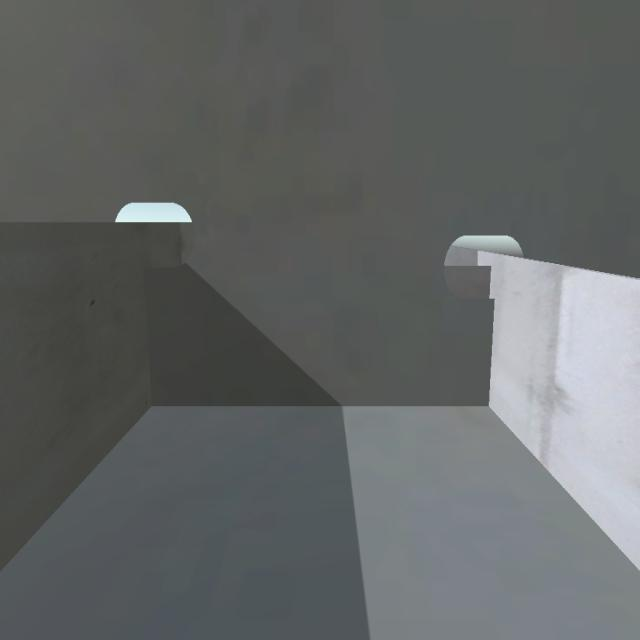fillet_yong_jeop_jang: (142, 394, 492, 413)
longi_yong_jeop_jang: (137, 264, 158, 408), (487, 264, 500, 414)
plate_behind: (440, 264, 500, 302)
